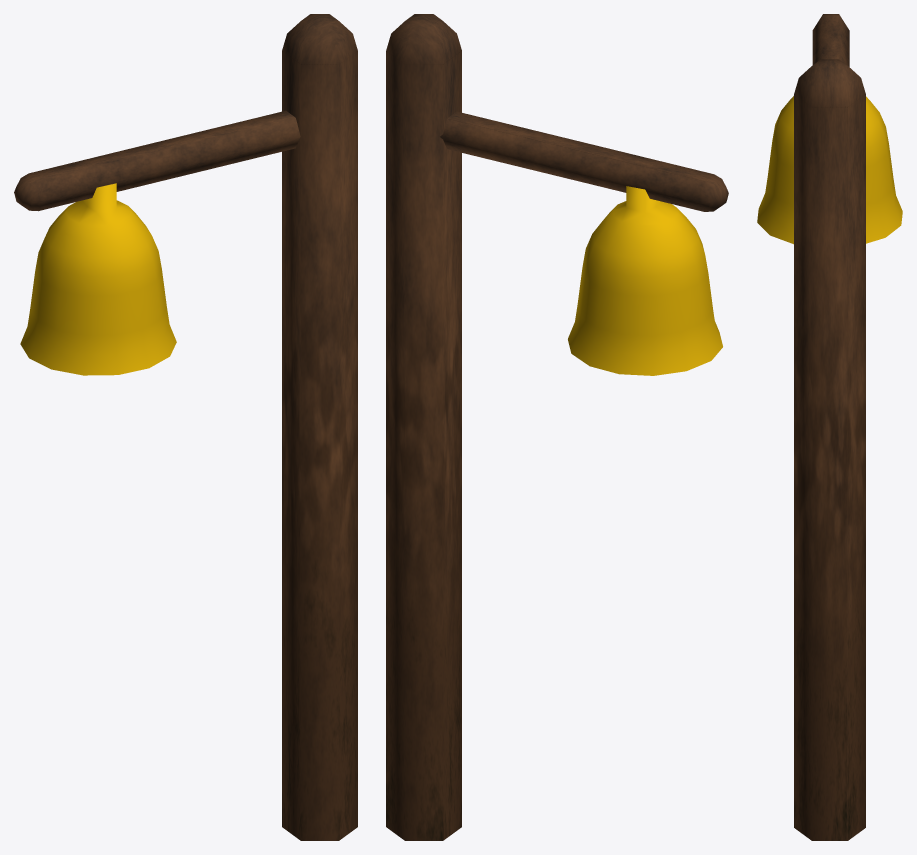
The model's file is bell.fbx.
3 views of the same model, side by side, from view 1: azimuth 30°, elevation 25°; view 2: azimuth 150°, elevation 25°; view 3: azimuth 270°, elevation 25° (orthographic). The views are drawn at different scales.
Visible parts, largest first — view 1: Sphere; view 2: Sphere; view 3: Sphere.
Part boxes in pixels (bbox=[...]): Sphere: bbox=[14, 14, 357, 840]; Sphere: bbox=[386, 14, 728, 840]; Sphere: bbox=[757, 14, 902, 840].
Bounding box in the file's own units: 136 × 318 × 54.77.
2 materials, 1 textured.
